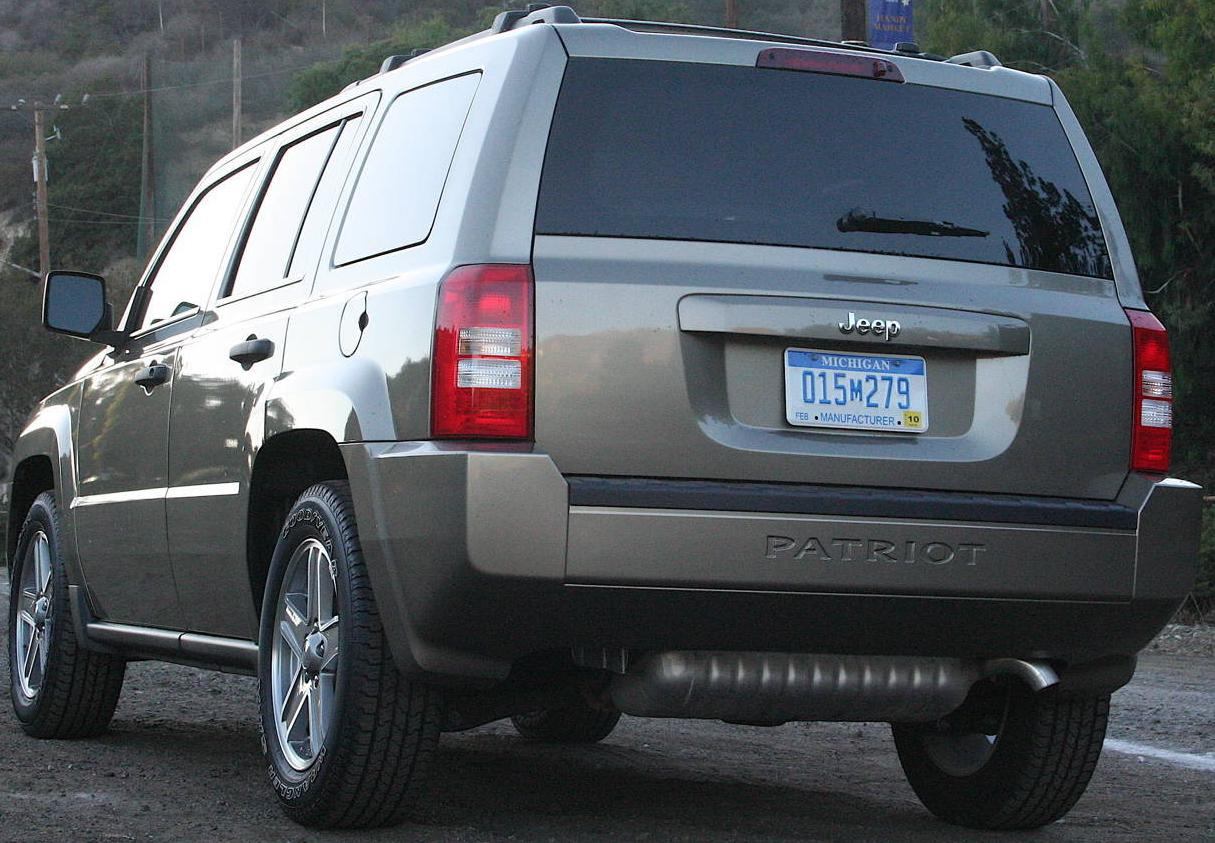back_view: (434, 223, 1206, 742)
backlight: (428, 254, 551, 456)
side_glass: (117, 93, 471, 323)
